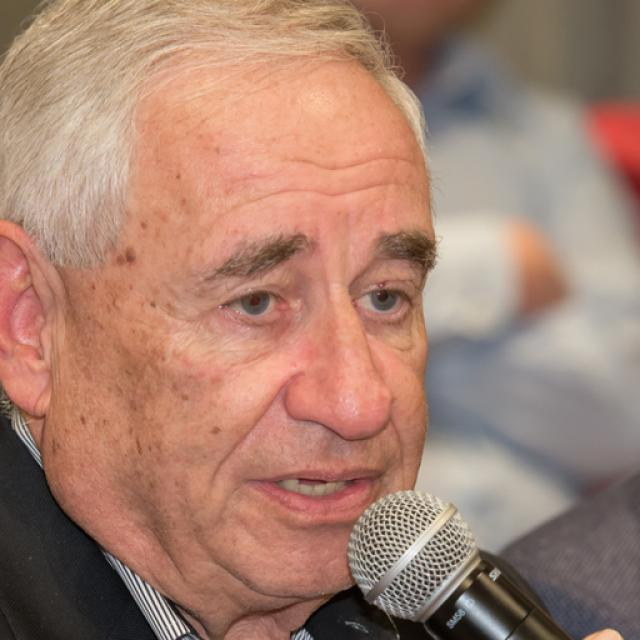sad: (72, 71, 432, 590)
